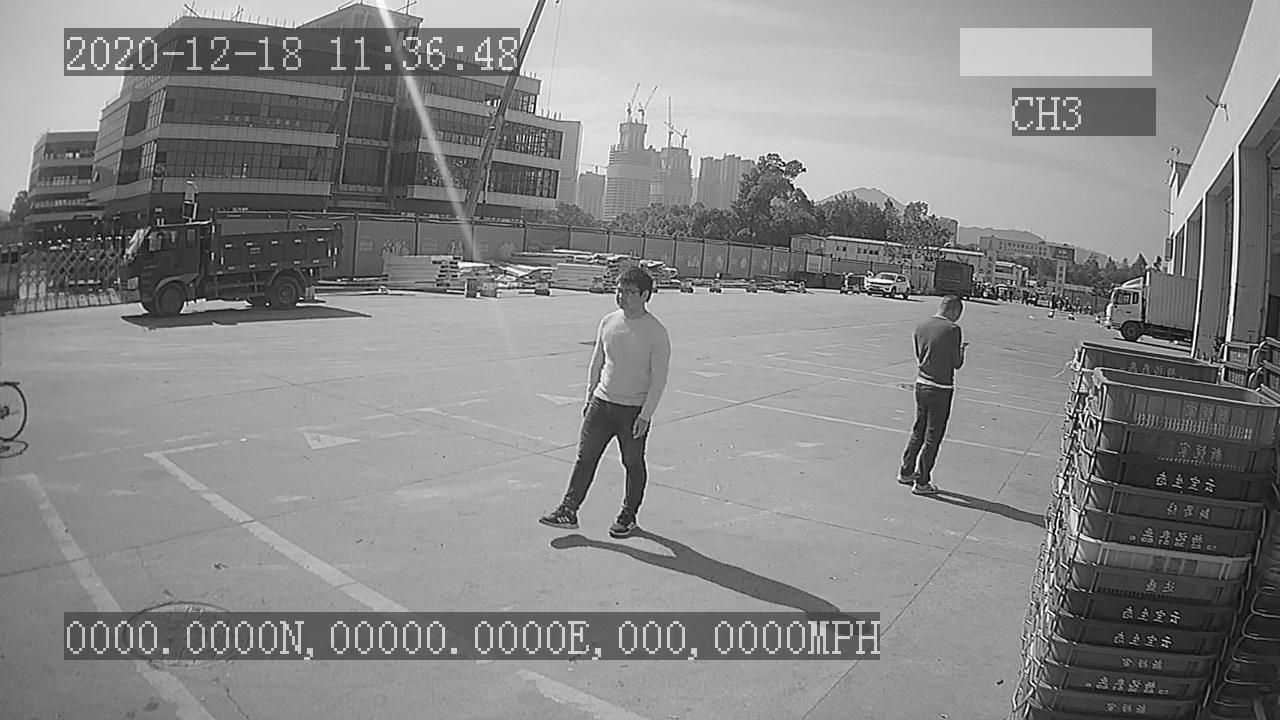person: (541, 265, 676, 543), (896, 292, 967, 497)
